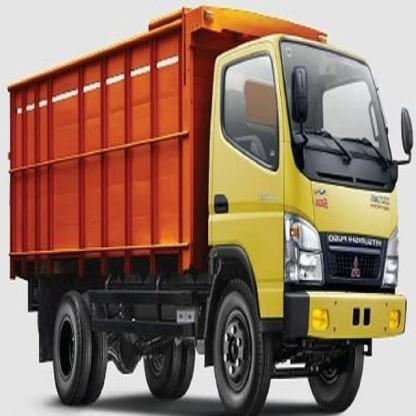truck: (10, 2, 414, 416)
